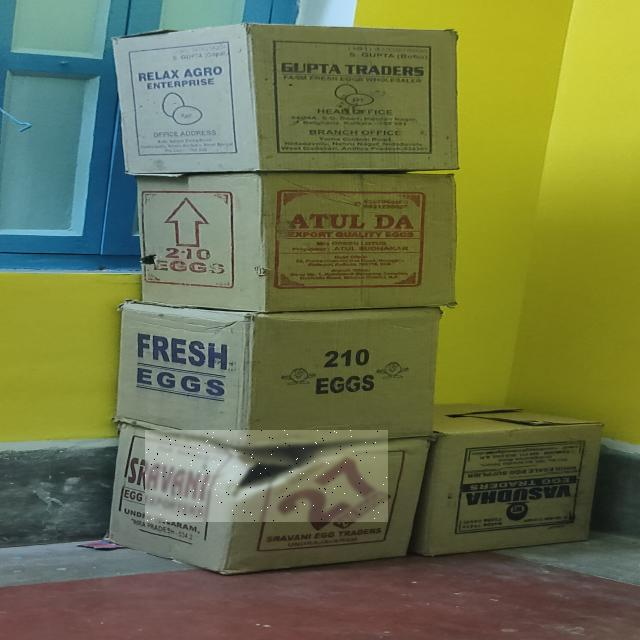squeeze: (146, 430, 387, 522)
